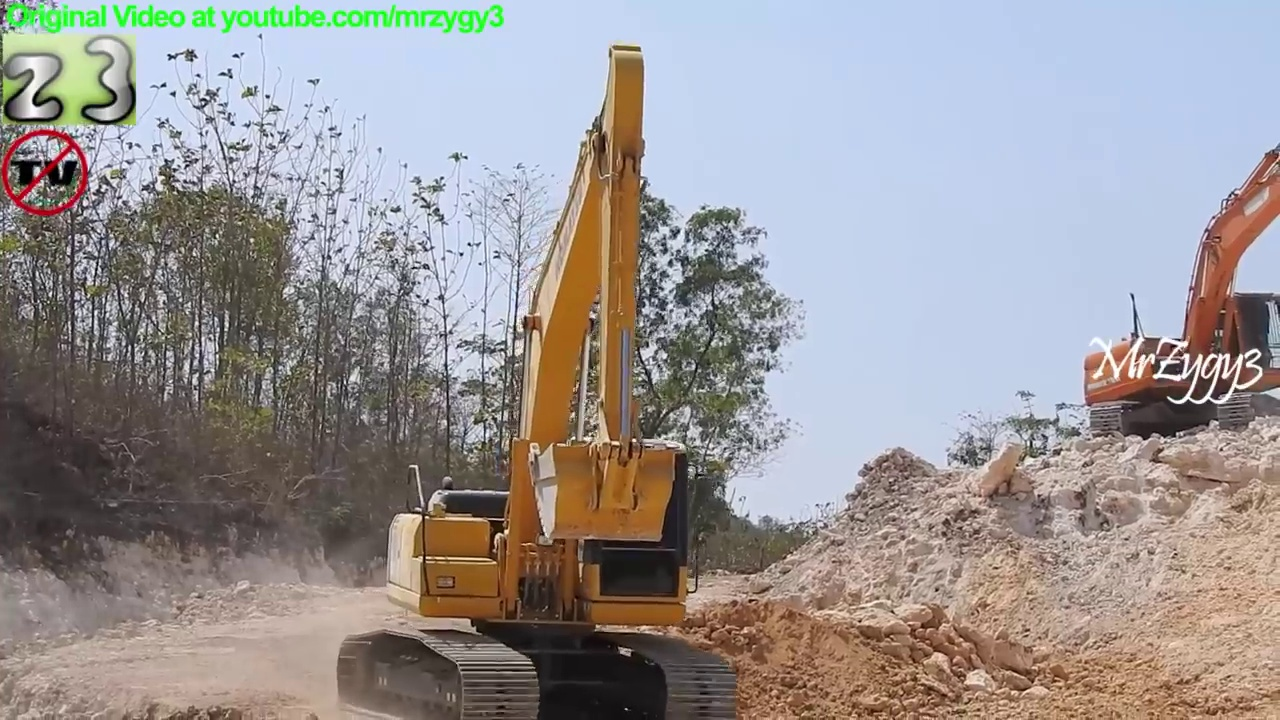excavator: (334, 38, 752, 720), (1082, 138, 1280, 436)
